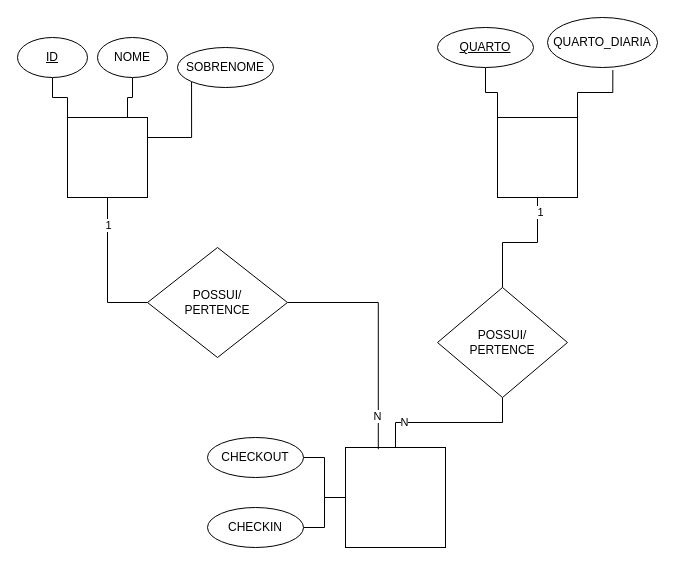
Image size: 675x565. Some labels were removed from this diagram. Each missing label, with the centre of its shape:
"CLIENTE" goes at [107,157].
"HOSPEDAGEM" goes at [395,497].
"HOTEL" goes at [537,157].
